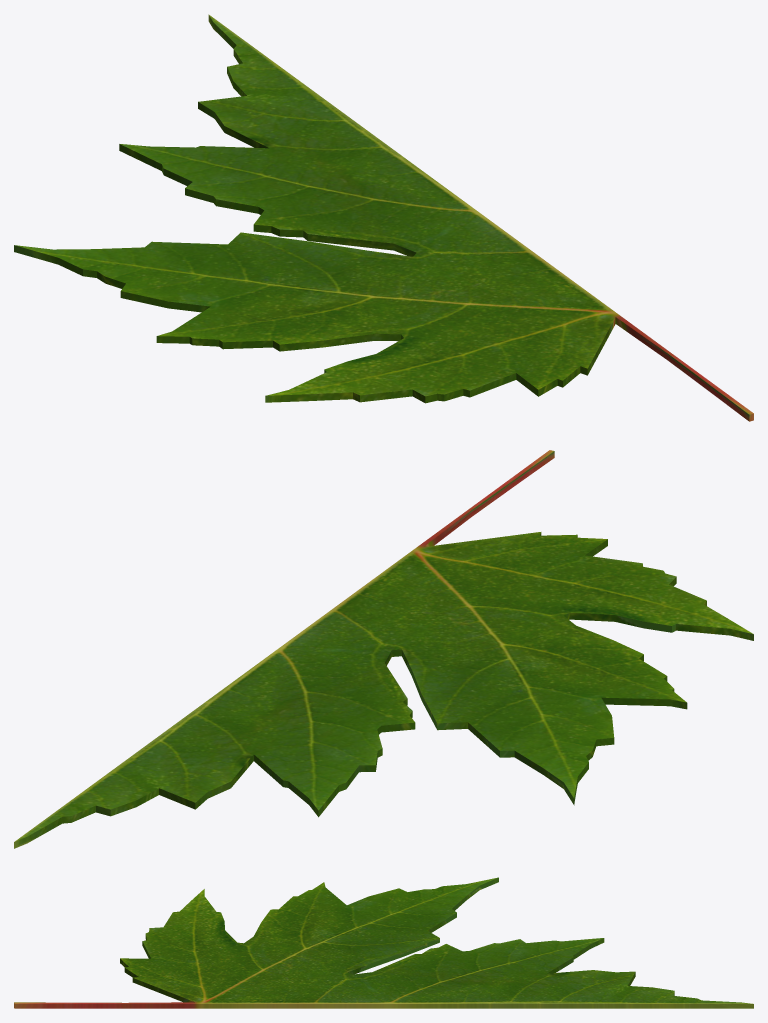
Rendered from Half_Leaf_Left.glb.
The picture shows the model from 3 angles, top to bottom: view 1: azimuth 30°, elevation 25°; view 2: azimuth 150°, elevation 25°; view 3: azimuth 270°, elevation 25°; orthographic projection. The views are drawn at different scales.
Visible parts, largest first — view 1: Half_Leaf_Left; view 2: Half_Leaf_Left; view 3: Half_Leaf_Left.
Part boxes in pixels (left/top/right/bottom): Half_Leaf_Left: left=14, top=14, right=753, bottom=421; Half_Leaf_Left: left=14, top=450, right=753, bottom=848; Half_Leaf_Left: left=14, top=877, right=753, bottom=1008.
Bounding box in the file's own units: 1.46 × 0.0253 × 3.61.
Materials: 1 (1 with a texture image).
